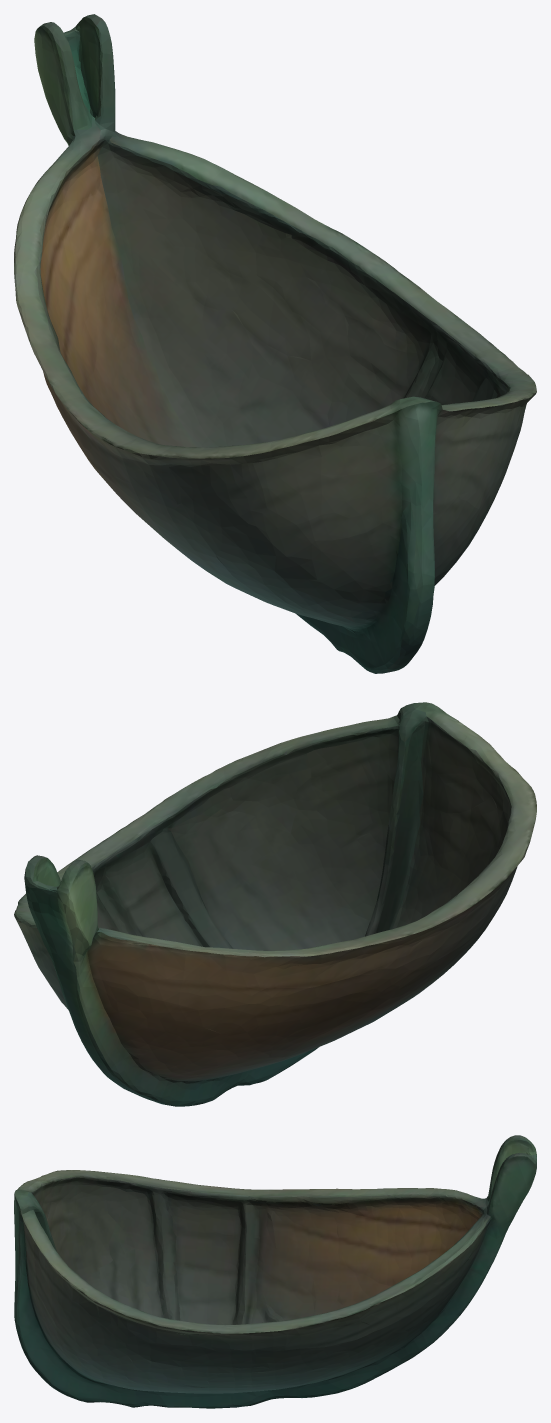
Rendered from sunken_ship.glb.
The picture shows the model from 3 angles, top to bottom: view 1: azimuth 30°, elevation 25°; view 2: azimuth 150°, elevation 25°; view 3: azimuth 270°, elevation 25°; orthographic projection. The views are drawn at different scales.
Parts seen in each view (by area): view 1: world; view 2: world; view 3: world.
Boxes of the visible parts, x1=… form: world: x1=14, y1=14, x2=536, y2=673; world: x1=14, y1=702, x2=536, y2=1106; world: x1=14, y1=1135, x2=536, y2=1408.
Bounding box in the file's own units: 0.6087 × 0.5696 × 0.9972.
1 material, 1 textured.
